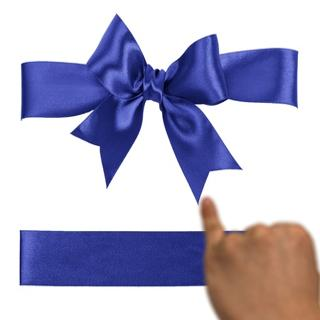FINE: (195, 191, 320, 320)
